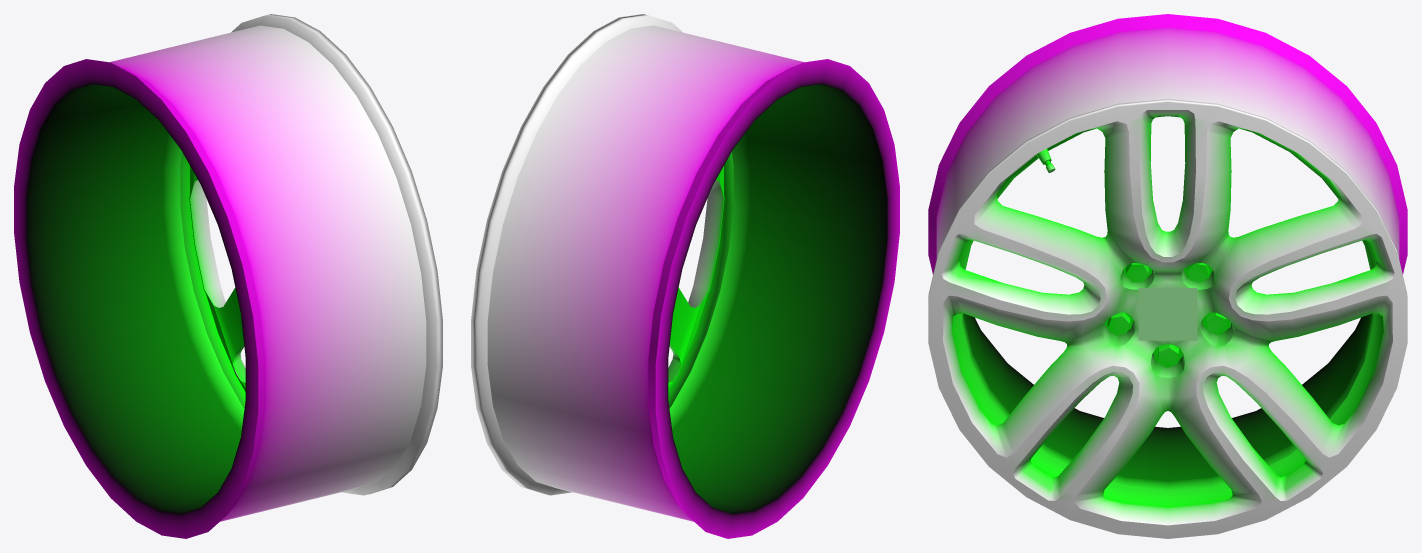
Rendered from Car_Mini_CountrymanJCW_2017_WheelFL_SetA.fbx.
3 views of the same model, side by side, from view 1: azimuth 30°, elevation 25°; view 2: azimuth 150°, elevation 25°; view 3: azimuth 270°, elevation 25° (orthographic).
Parts seen in each view (by area): view 1: WheelFL 6; view 2: WheelFL 6; view 3: WheelFL 6.
Boxes of the visible parts, box(x1,y1,x2,y2) form: WheelFL 6: box(14, 14, 442, 538); WheelFL 6: box(471, 14, 899, 538); WheelFL 6: box(928, 14, 1407, 538).
Bounding box in the file's own units: 0.2326 × 0.5202 × 0.5174.
